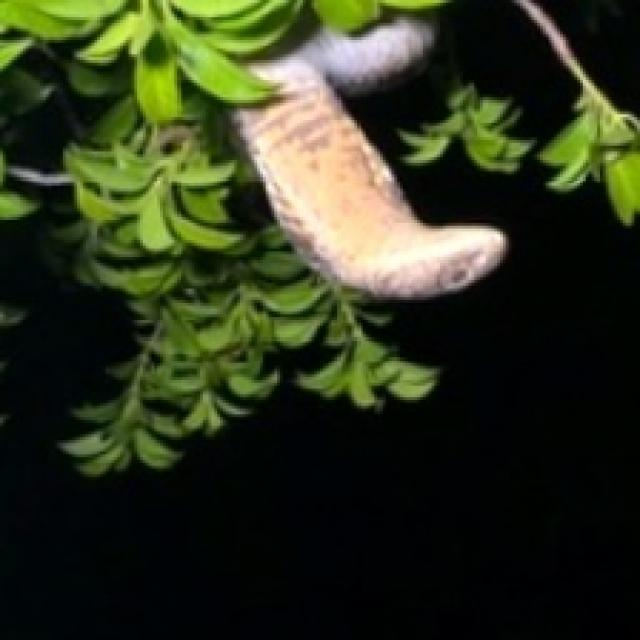king cobra: (234, 17, 503, 294)
